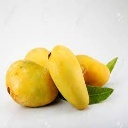mango: (6, 59, 61, 108)
